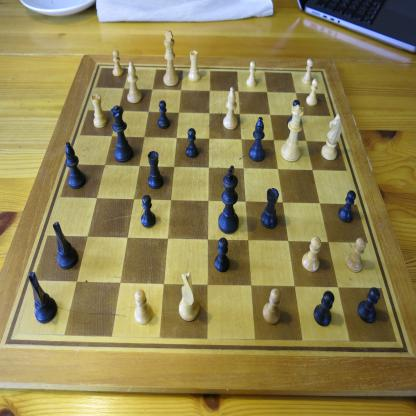black-bishop: (65, 141, 86, 190), (248, 116, 266, 163)
black-king: (218, 164, 239, 235)
black-knight: (28, 270, 58, 324), (52, 220, 78, 270)
black-pawn: (356, 286, 381, 325), (313, 290, 335, 327), (337, 190, 356, 224), (214, 237, 230, 273), (140, 194, 156, 228), (185, 128, 199, 158), (157, 99, 170, 130), (287, 98, 300, 127)
black-queen: (110, 105, 134, 164)
black-rook: (260, 187, 279, 230), (147, 150, 164, 190)
white-bishop: (222, 86, 239, 131), (127, 60, 142, 104)
white-king: (162, 29, 180, 87)
white-knight: (178, 271, 200, 322), (321, 113, 343, 161)
white-pawn: (344, 237, 366, 274), (301, 236, 322, 273), (262, 288, 281, 326), (134, 289, 153, 325), (306, 78, 318, 108), (301, 58, 314, 85), (112, 49, 124, 77), (246, 61, 258, 88)
white-queen: (280, 104, 304, 163)
white-rook: (91, 93, 108, 129), (188, 50, 201, 83)
